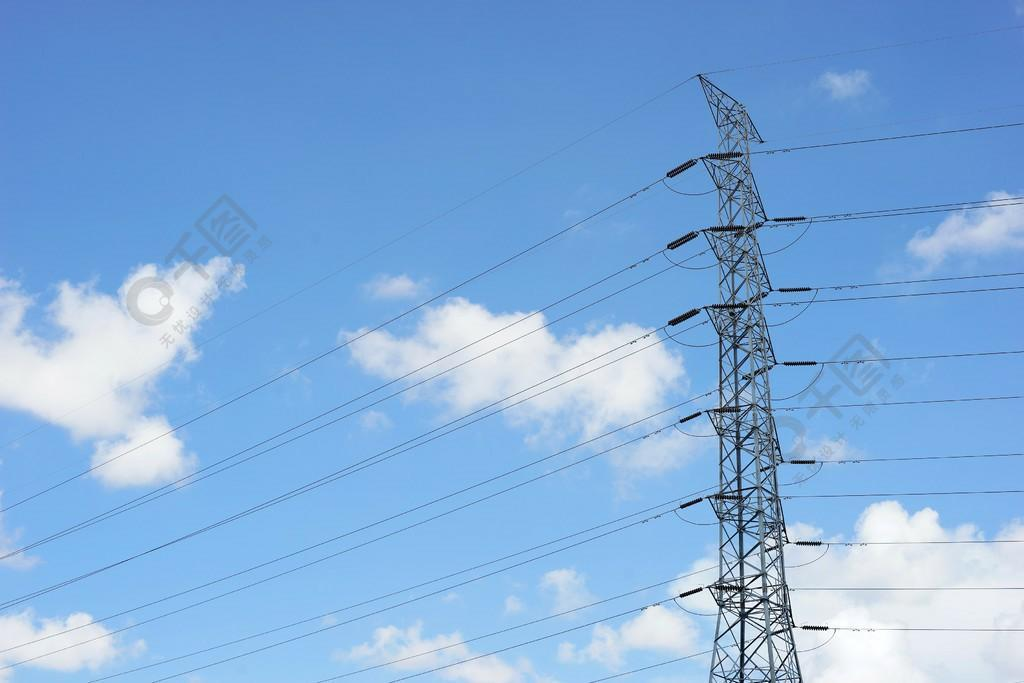power_tower: (661, 59, 846, 683)
